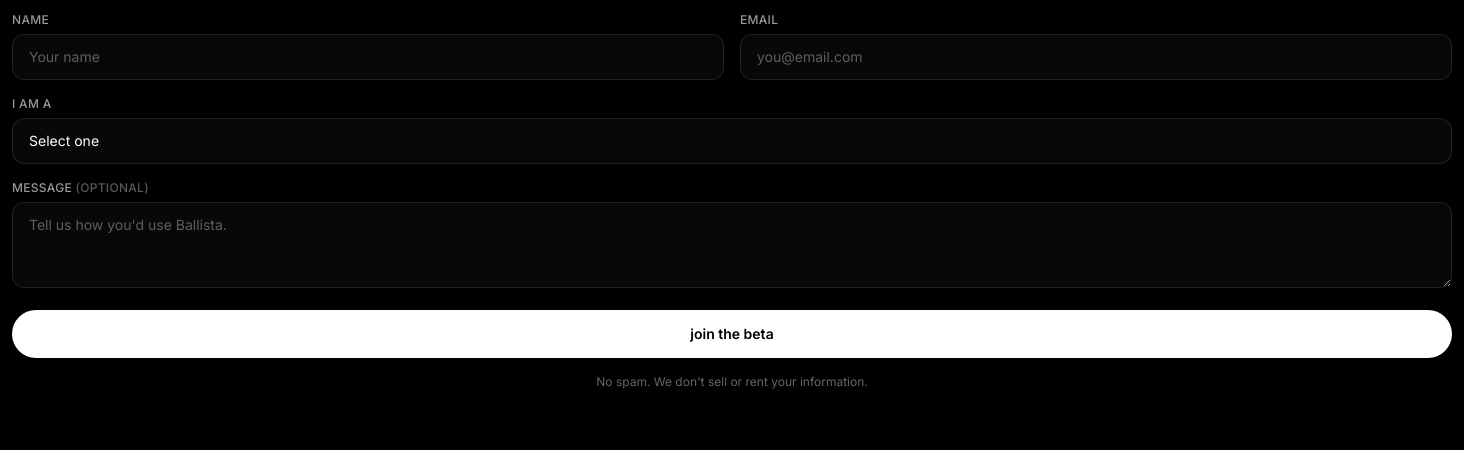
Scenario: EarlyAccessForm › shows validation errors when submitted empty
Click the button "join the beta": click(732, 334) left=12, top=310, right=1452, bottom=358
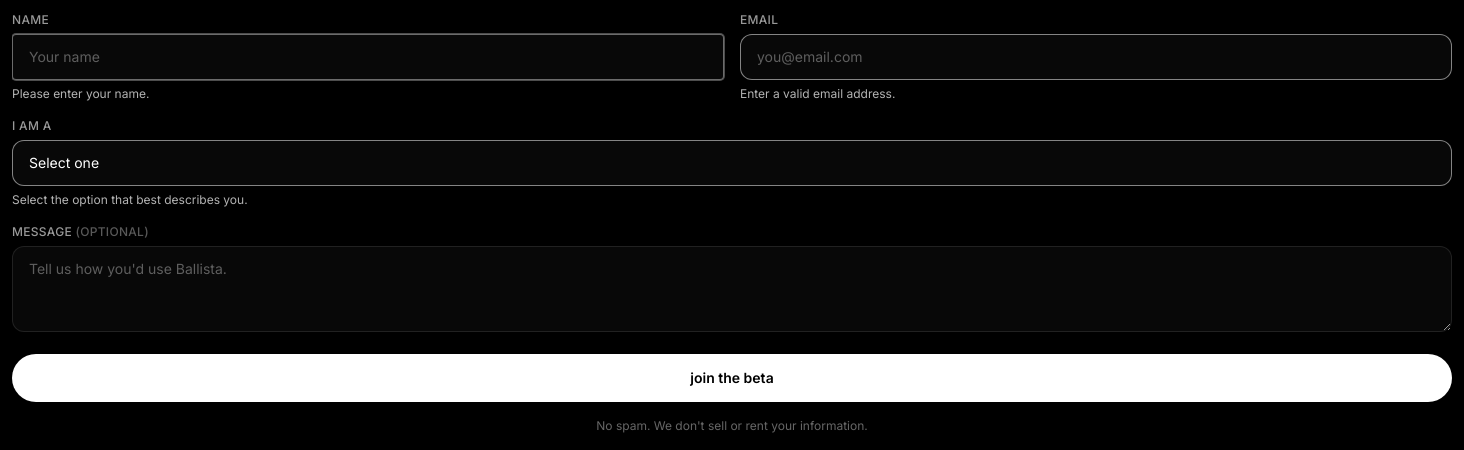
Expected: the text "Please enter your name." is shown, left=12, top=86, right=149, bottom=101
Expected: the text "Enter a valid email address." is shown, left=740, top=86, right=895, bottom=101
